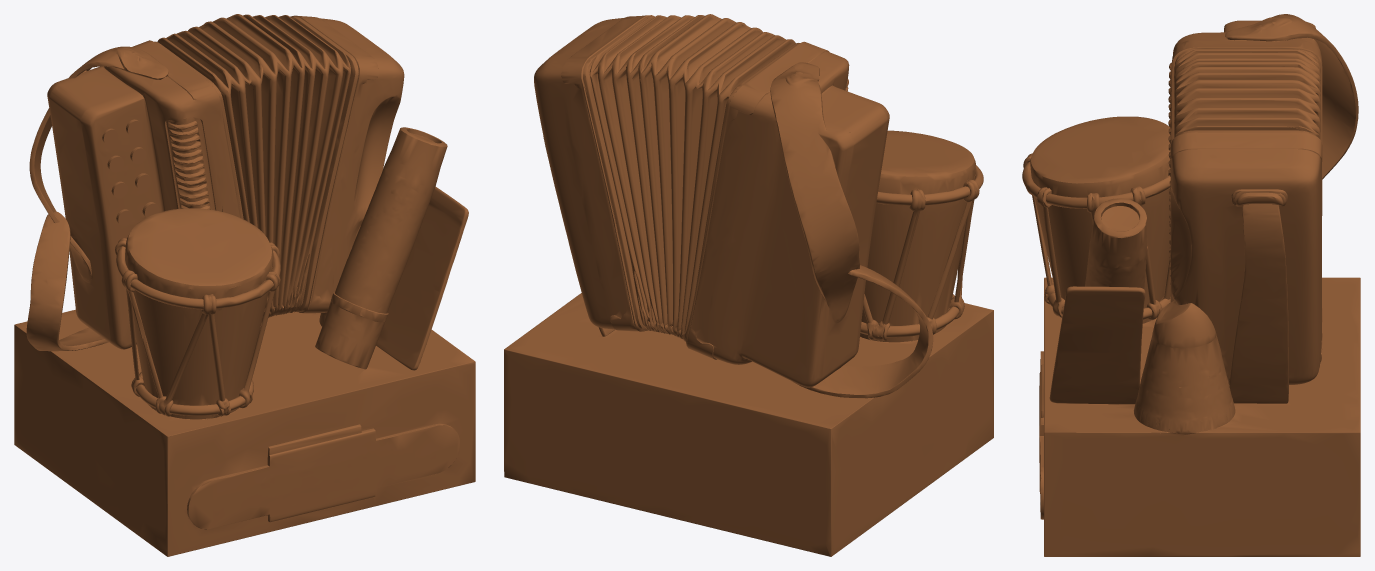
File: trio-vallenato.glb
3 views of the same model, side by side, from view 1: azimuth 30°, elevation 25°; view 2: azimuth 150°, elevation 25°; view 3: azimuth 270°, elevation 25° (orthographic). The views are drawn at different scales.
Parts seen in each view (by area): view 1: node_0; view 2: node_0; view 3: node_0.
Boxes of the visible parts, x1,y1,x2,y2 form: node_0: (14,14,475,556); node_0: (504,14,993,556); node_0: (1022,14,1360,556).
Bounding box in the file's own units: 0.7235 × 0.7913 × 0.5786.
